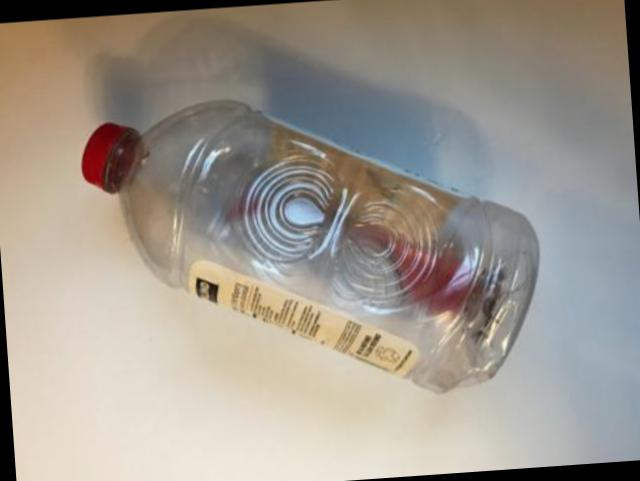plastic: (80, 98, 536, 389)
